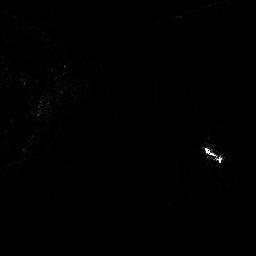ship: (197, 142, 227, 167)
